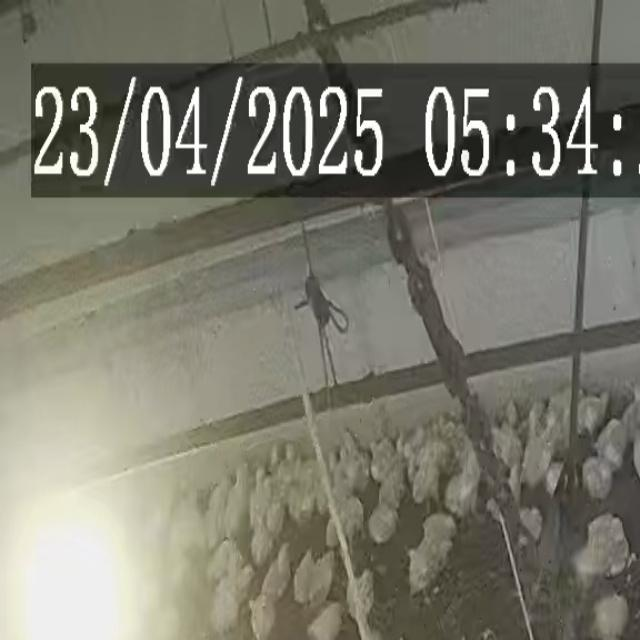chicken: (343, 568, 378, 620), (332, 494, 366, 546), (258, 552, 290, 607), (596, 590, 632, 638), (407, 542, 439, 594), (292, 548, 320, 602), (583, 455, 616, 500), (305, 602, 344, 640), (249, 592, 279, 640), (366, 504, 398, 546), (518, 506, 544, 545)
